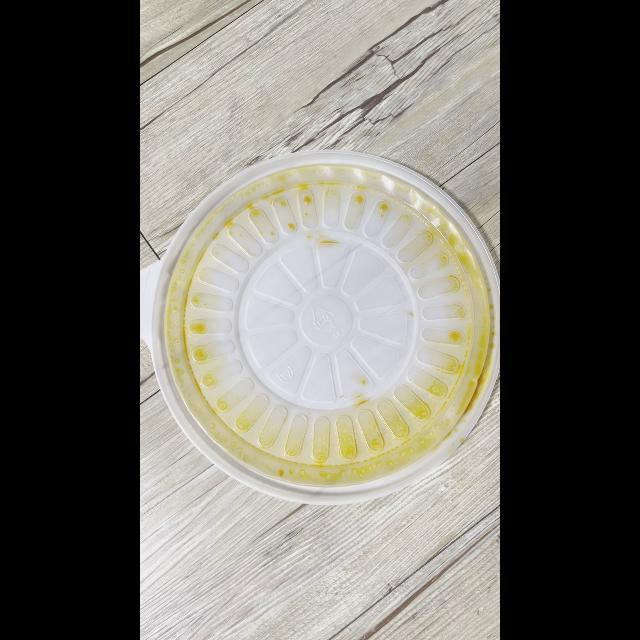dirty: (158, 152, 494, 494)
